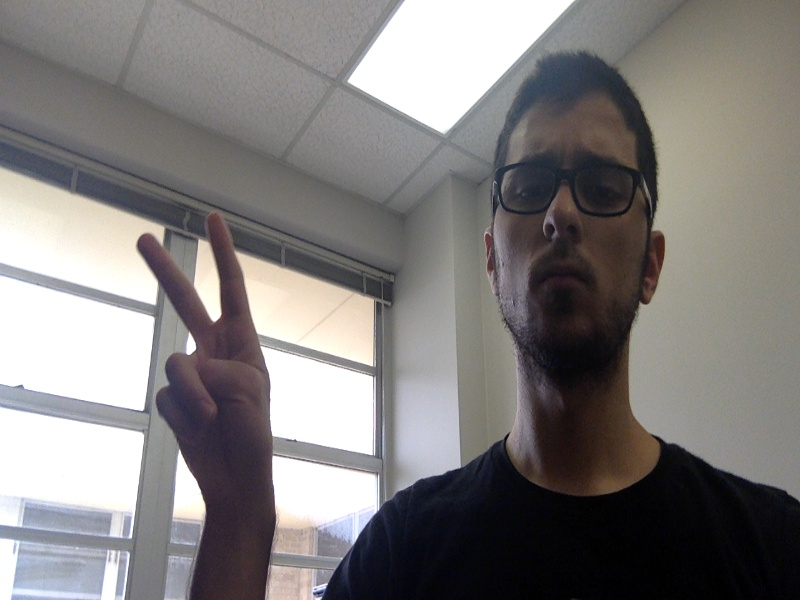2-hand: (133, 212, 273, 490)
